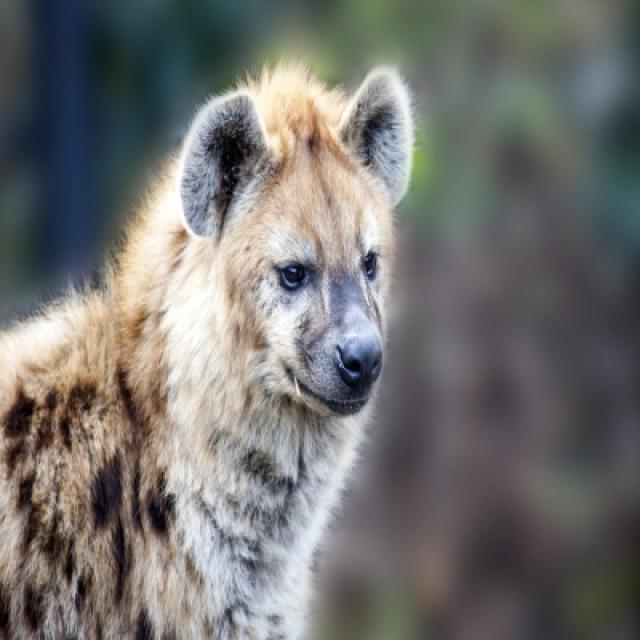hyena: (0, 58, 416, 638)
